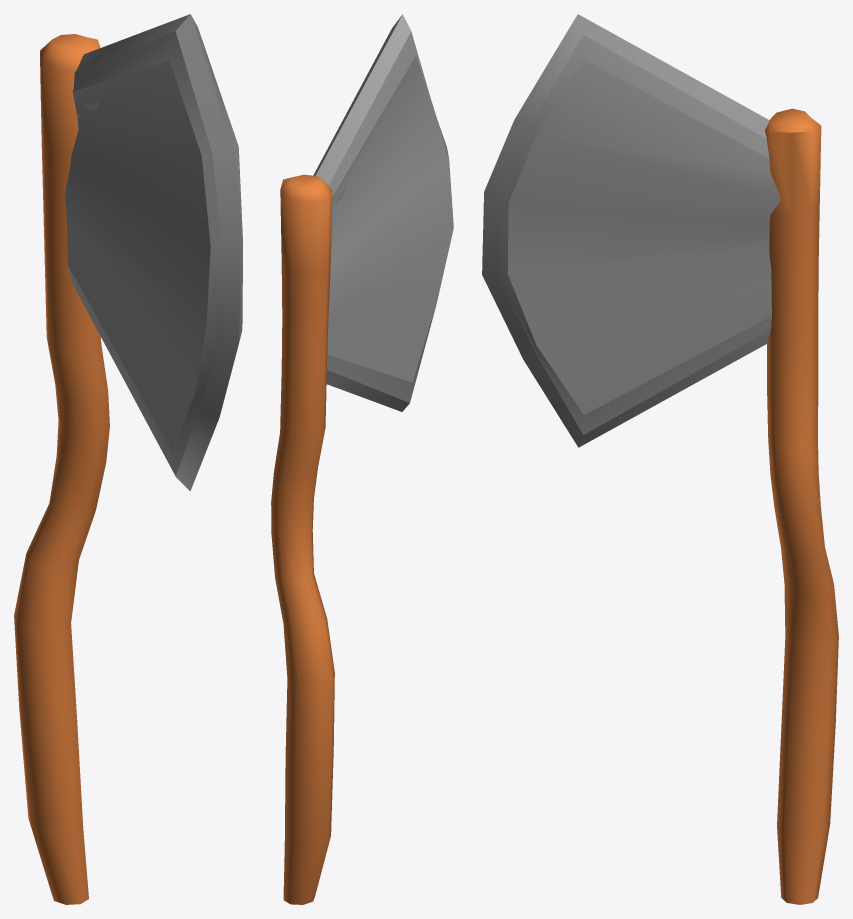
File: axe.fbx
3 views of the same model, side by side, from view 1: azimuth 30°, elevation 25°; view 2: azimuth 150°, elevation 25°; view 3: azimuth 270°, elevation 25° (orthographic). The views are drawn at different scales.
Parts seen in each view (by area): view 1: axe; view 2: axe; view 3: axe.
Boxes of the visible parts, x1,y1,x2,y2 form: axe: (14,14,242,904); axe: (271,14,453,904); axe: (482,14,838,904).
Bounding box in the file's own units: 0.1678 × 1.93 × 0.7083.
